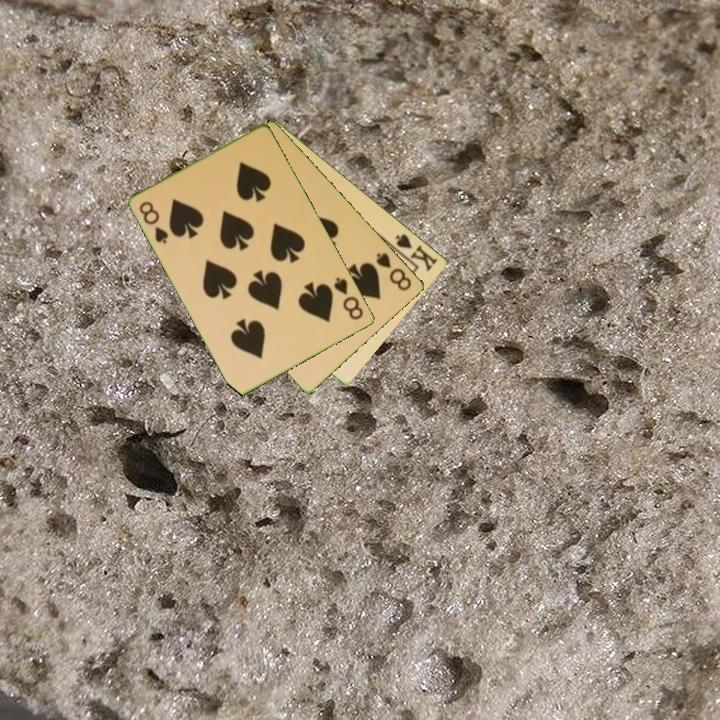8s: (373, 249, 415, 294), (331, 273, 367, 323), (136, 198, 172, 246)
Ks: (386, 230, 441, 274)
